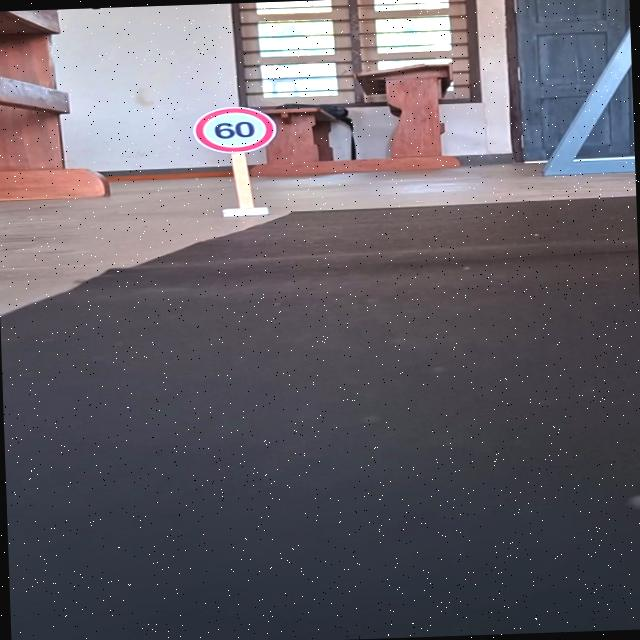Speed60: (189, 104, 279, 156)
